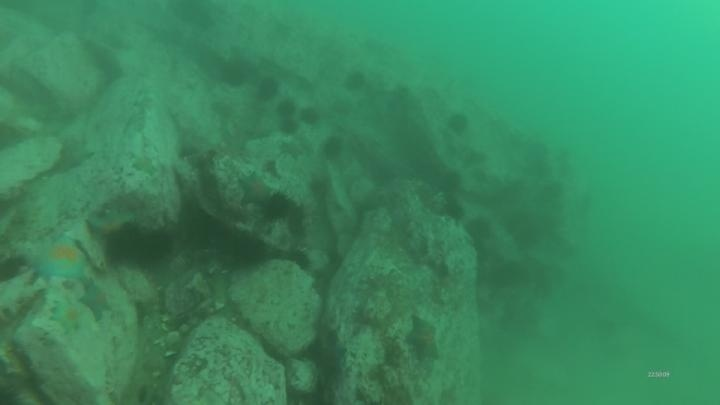echinus: (103, 222, 148, 266), (221, 229, 268, 271), (131, 226, 176, 268), (502, 209, 544, 251), (486, 258, 528, 292), (259, 191, 294, 223), (217, 58, 251, 90), (462, 215, 495, 246), (1, 252, 28, 285), (253, 75, 282, 103), (306, 173, 333, 203), (319, 134, 346, 162), (444, 111, 472, 137), (341, 68, 369, 94), (275, 114, 300, 137), (298, 105, 322, 128), (277, 99, 298, 119)
starfish: (28, 236, 91, 284), (403, 313, 444, 364), (86, 206, 137, 242), (77, 279, 115, 324), (55, 135, 96, 175), (235, 170, 276, 209), (48, 298, 89, 336), (129, 151, 161, 177), (278, 137, 308, 161)
